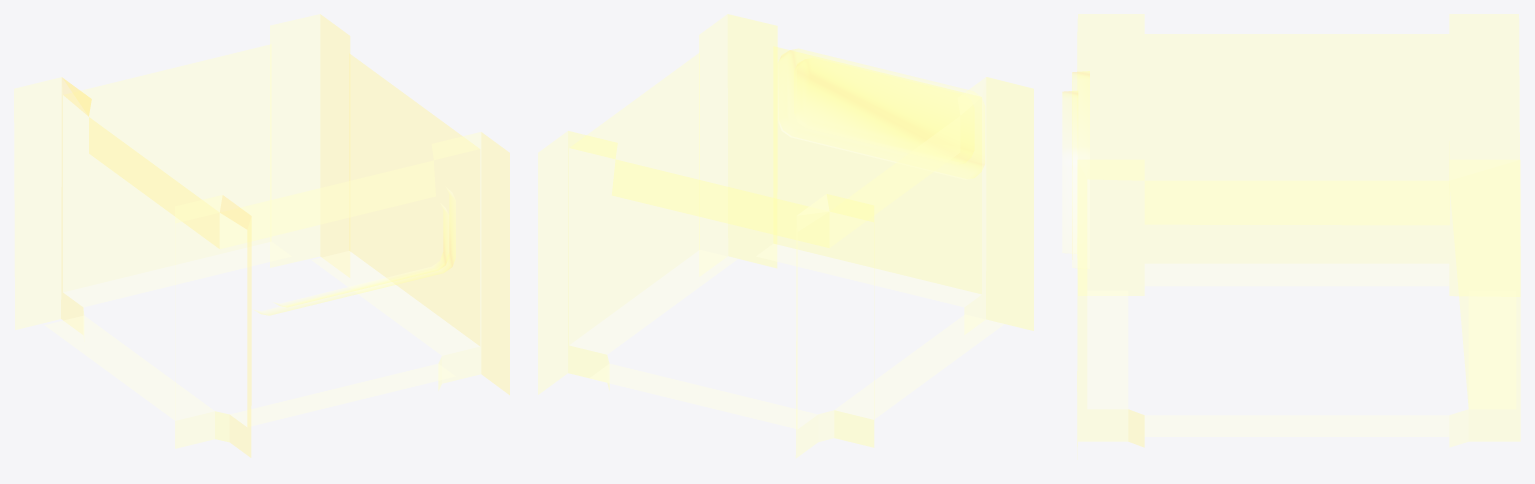
File: planterBoxToonSoft.glb
3 views of the same model, side by side, from view 1: azimuth 30°, elevation 25°; view 2: azimuth 150°, elevation 25°; view 3: azimuth 270°, elevation 25° (orthographic). The views are drawn at different scales.
Visible parts, largest first — view 1: Toon; view 2: Toon; view 3: Toon.
Part boxes in pixels (x1,y1,x2,y2): Toon: (14, 14, 509, 457); Toon: (538, 14, 1033, 457); Toon: (1062, 14, 1520, 447).
Bounding box in the file's own units: 1.76 × 1.33 × 1.96.
